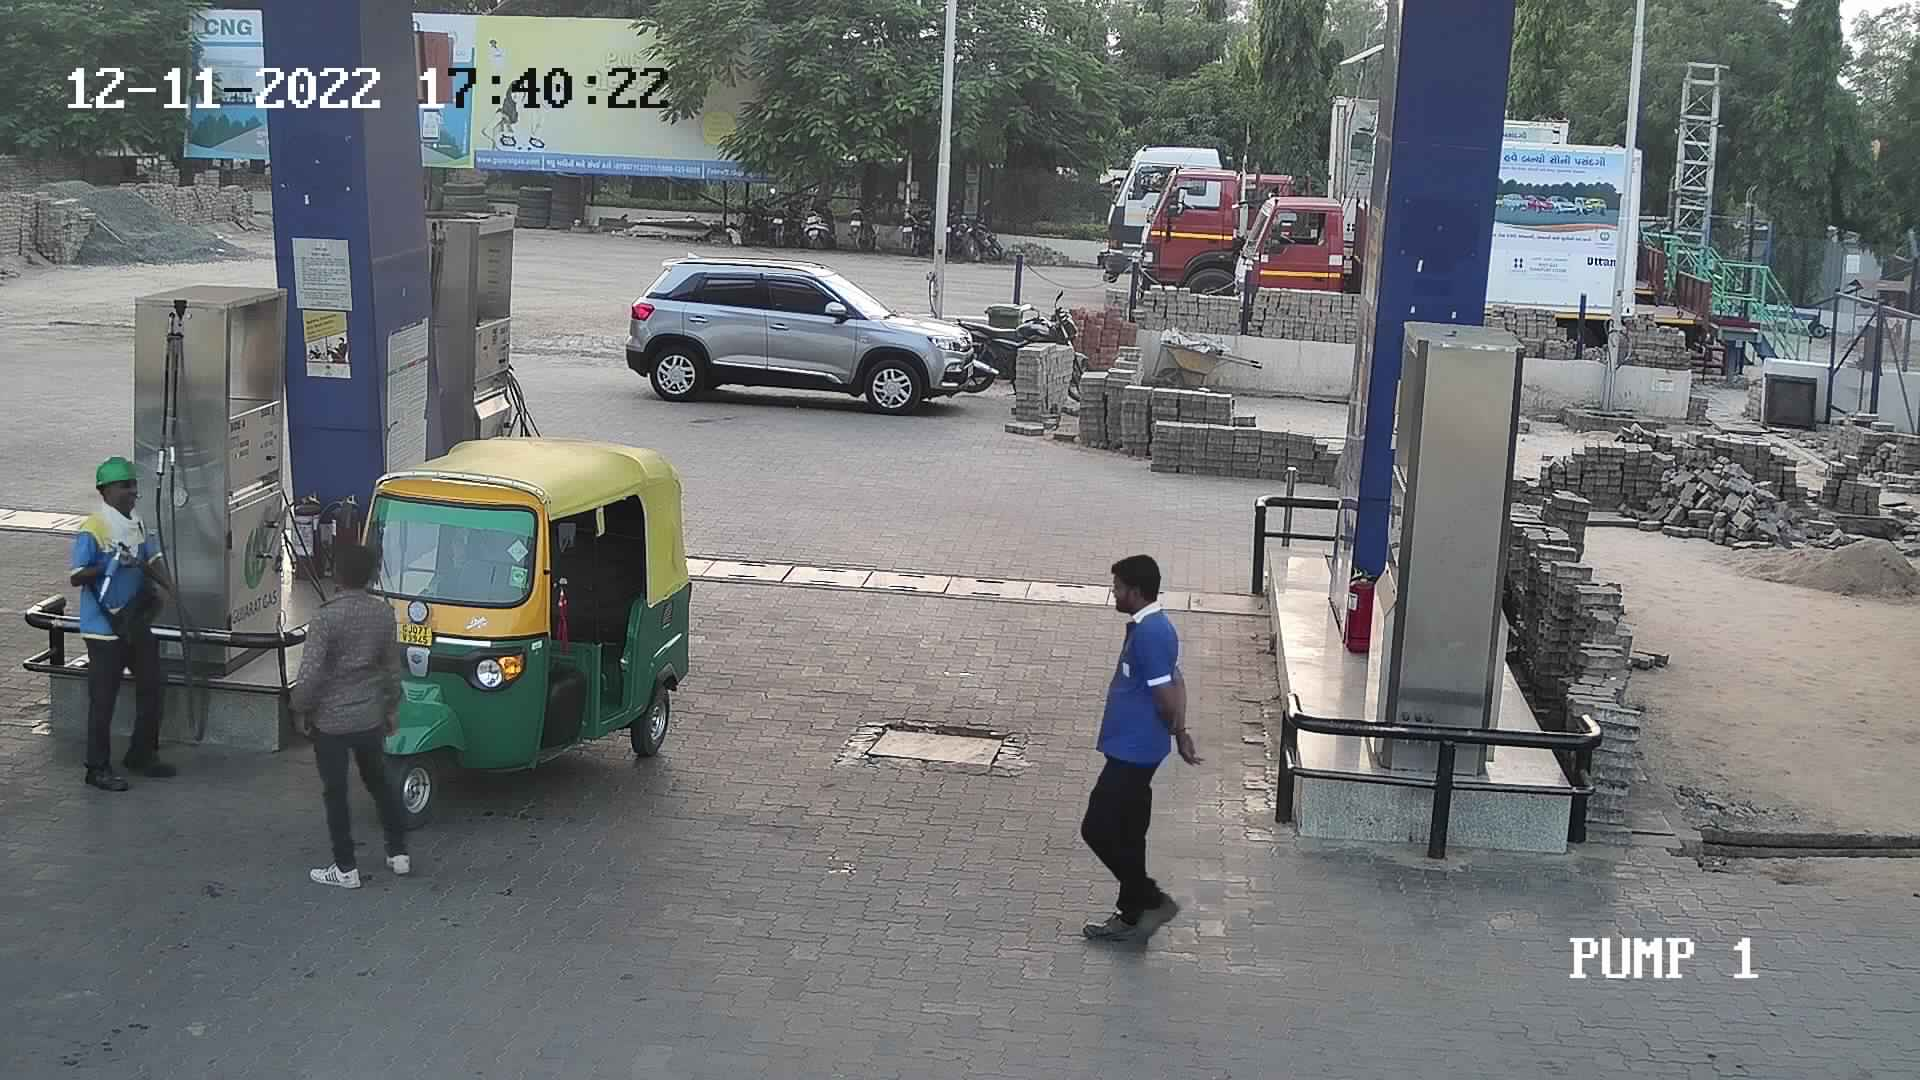Auto: (332, 425, 700, 840)
Bike: (938, 285, 1109, 426), (938, 193, 1006, 266), (731, 182, 807, 248), (795, 179, 848, 252), (837, 189, 893, 252), (889, 194, 930, 255)
Car: (615, 240, 982, 418)
HMV: (1088, 88, 1378, 286), (1124, 161, 1371, 302), (1215, 185, 1379, 307)
Others: (53, 450, 189, 798)
